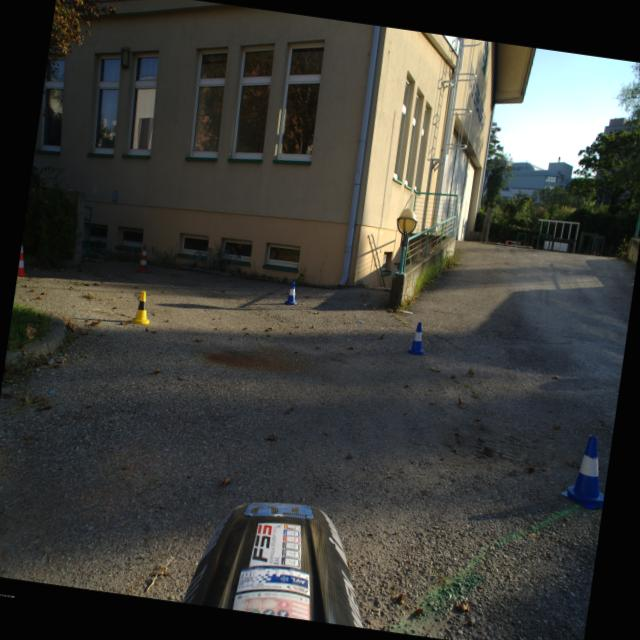blue_cone: (560, 432, 612, 512), (406, 322, 431, 356), (285, 282, 300, 306)
large_orange_cone: (17, 242, 33, 278), (137, 244, 153, 274)
yellow_cone: (131, 290, 154, 326)
